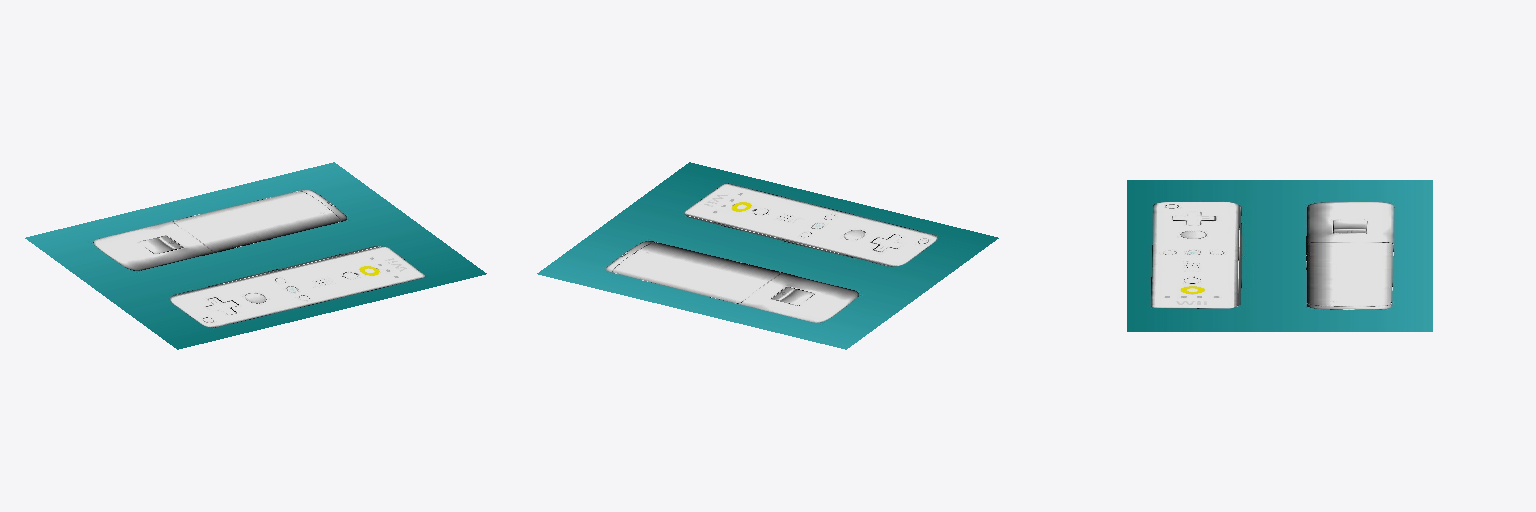
3 views of the same model, side by side, from view 1: azimuth 30°, elevation 25°; view 2: azimuth 150°, elevation 25°; view 3: azimuth 270°, elevation 25° (orthographic).
Parts seen in each view (by area): view 1: Plane002; view 2: Plane002; view 3: Plane002.
Part boxes in pixels (bbox=[...]): Plane002: bbox=[25, 162, 486, 349]; Plane002: bbox=[537, 162, 998, 349]; Plane002: bbox=[1127, 180, 1432, 331].
Bounding box in the file's own units: 94.59 × 0 × 80.88.
1 materials, 1 textured.